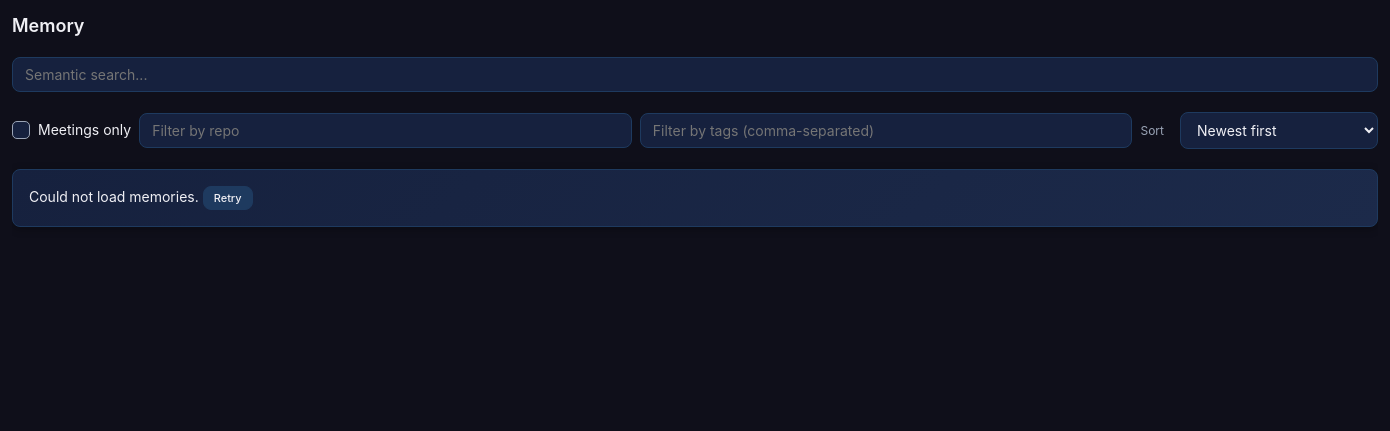
Test case: MemoryPage › shows a retryable read error instead of a false empty state
Expected: the message shows "Could not load memories.", [29,188,203,205]
Click the button "Retry": (228, 198) [203,186,253,210]
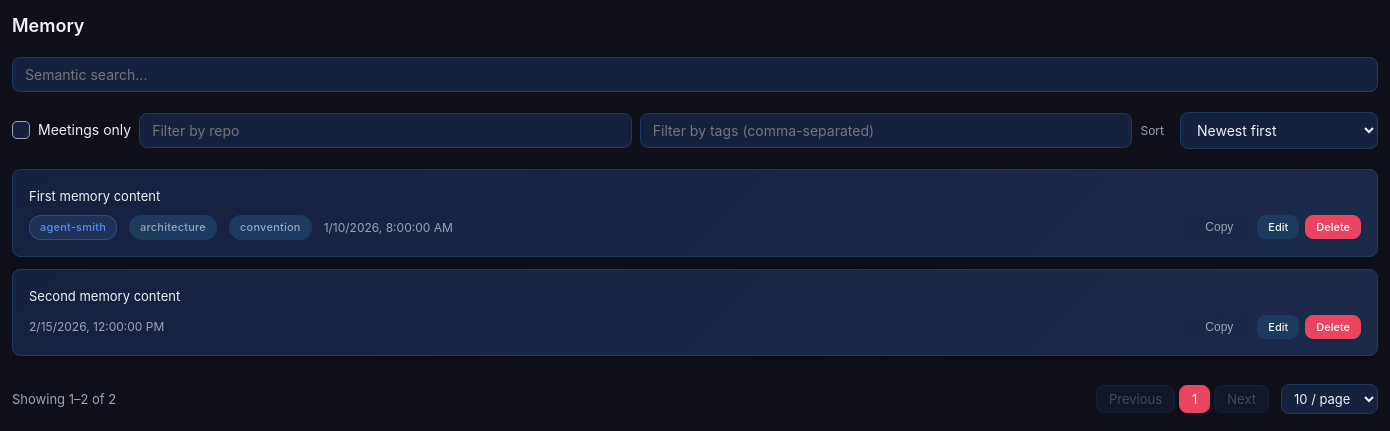
Expected: the text "First memory content" is shown, [29,188,160,204]
